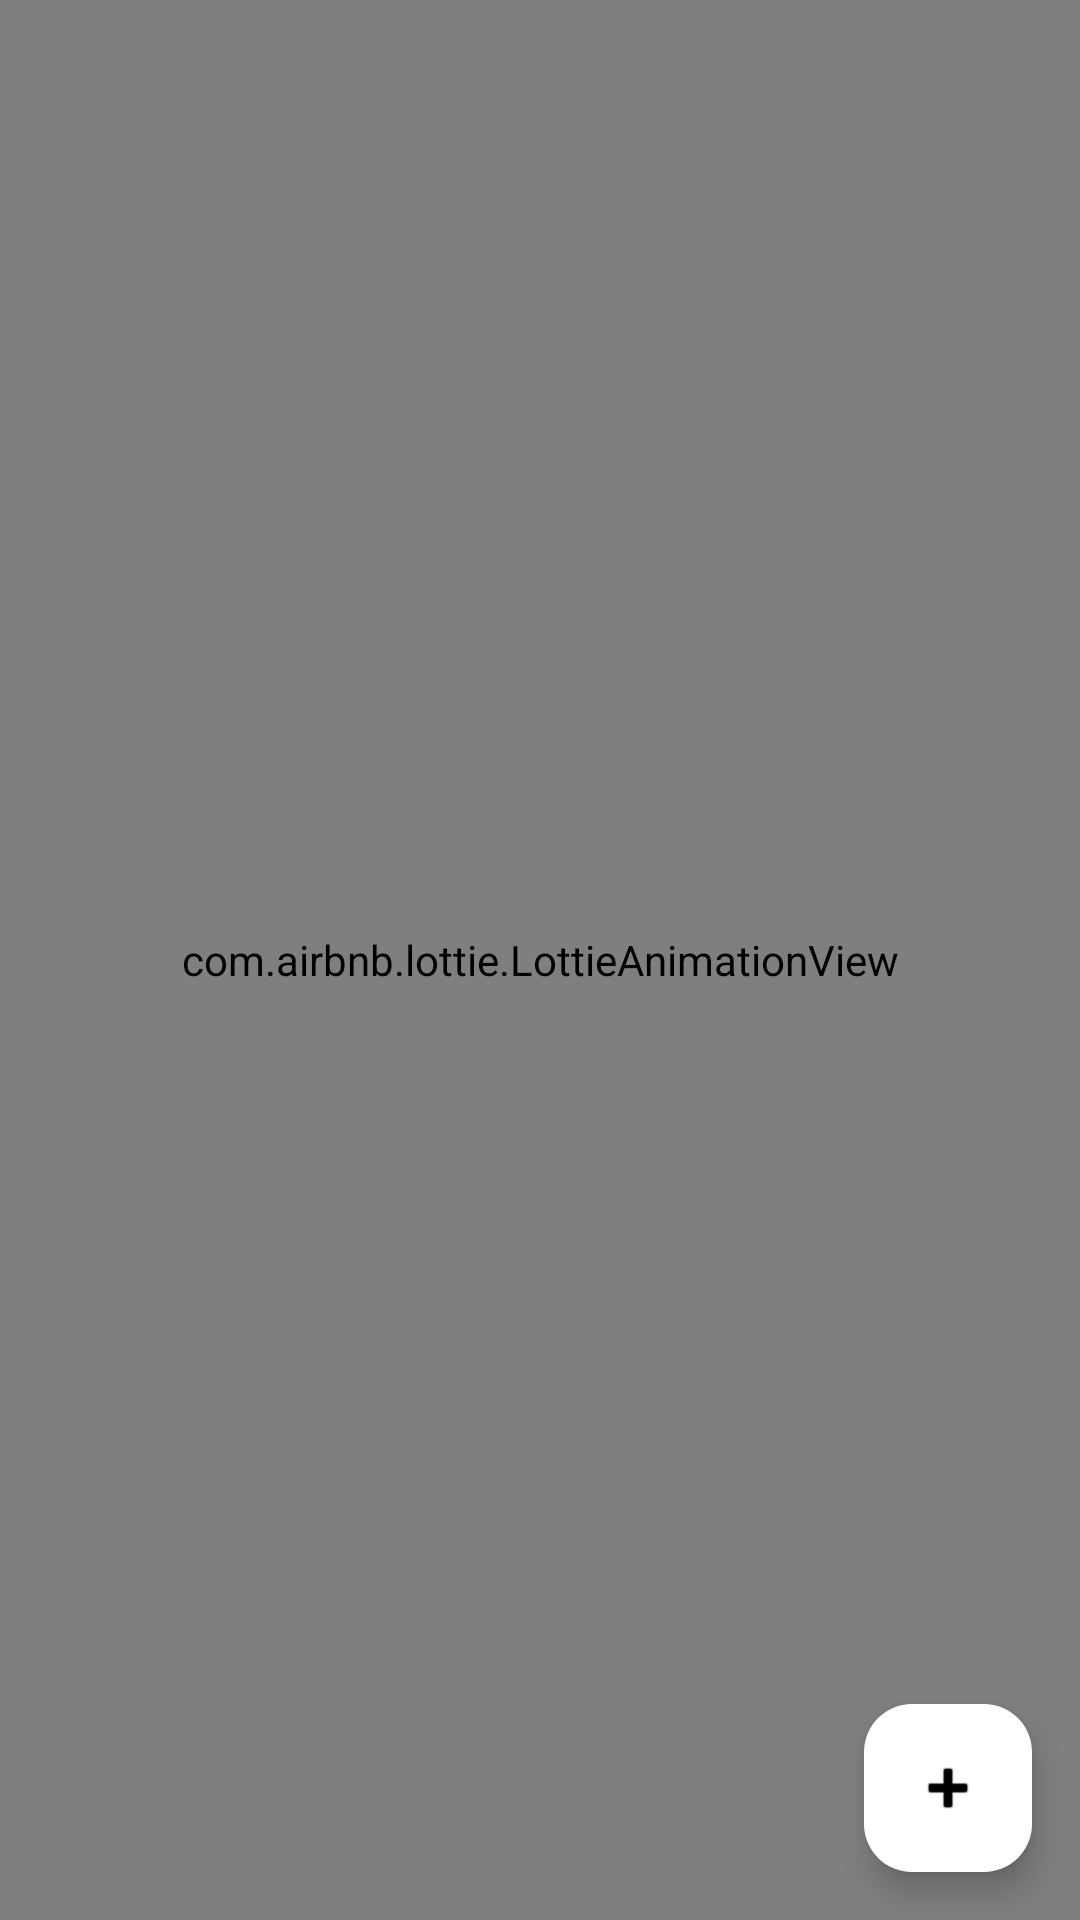

Where to tap for icons on this 1080×1920 app screen, as [x,y]:
Add new schedule: [948,1788]
